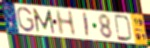8: (97, 13, 114, 40)
D: (113, 14, 134, 43)
G: (16, 6, 36, 33)
H: (54, 9, 78, 36)
I: (83, 12, 91, 39)
M: (32, 7, 56, 35)
